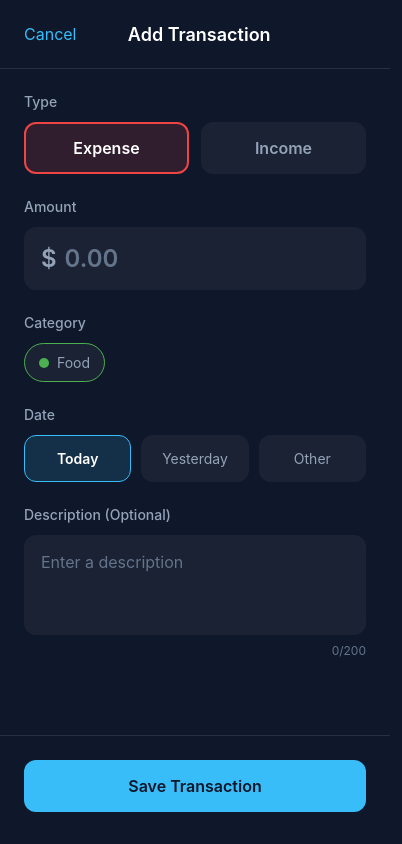
AddTransactionScreen › Form Validation › shows error when submitting without amount
The image size is (402, 844).
Click the button with aria-label "Select Food category".
click(65, 362)  # box [24,343,105,382]
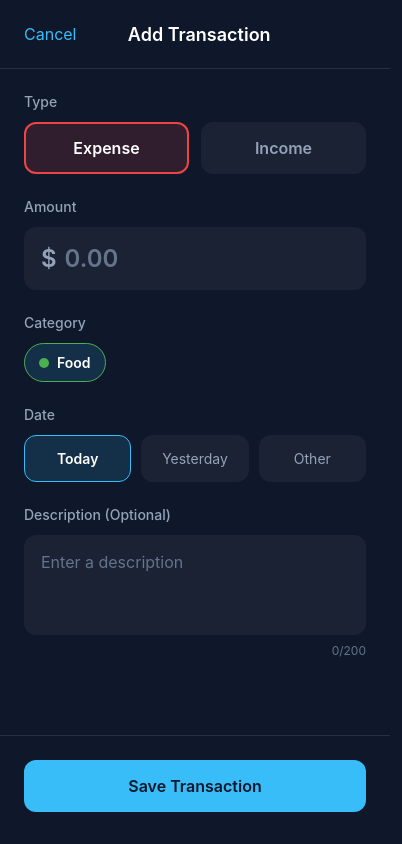
Click the button "Save Transaction".
click(195, 786)  # box [24,760,366,812]
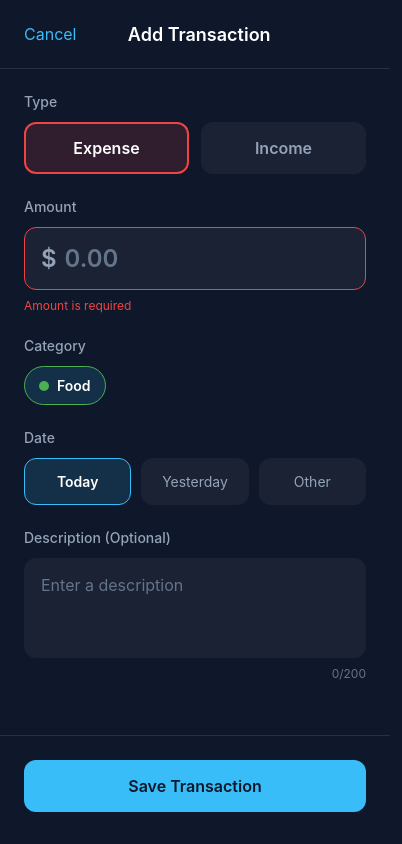
Now the text "Amount is required" is shown, box [24,298,131,313]
